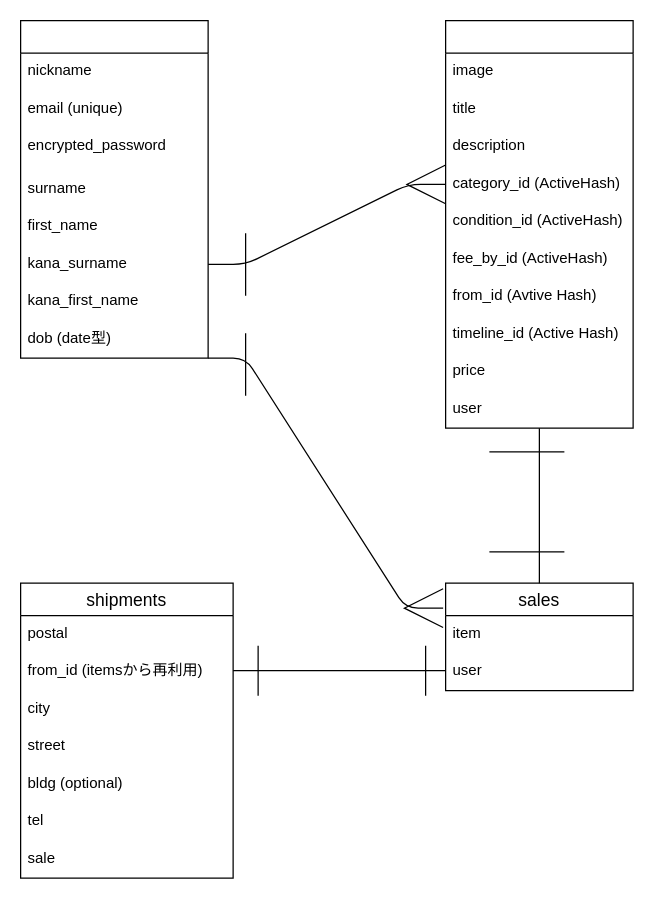
This 654x899 diagram has some shape labels left out. The shapes that lost their labels are listed below. From the top down, each one's box as (x1, y1, x2, y2) in pixels, then its label:
(19, 19, 208, 358): users
(444, 19, 633, 428): items
